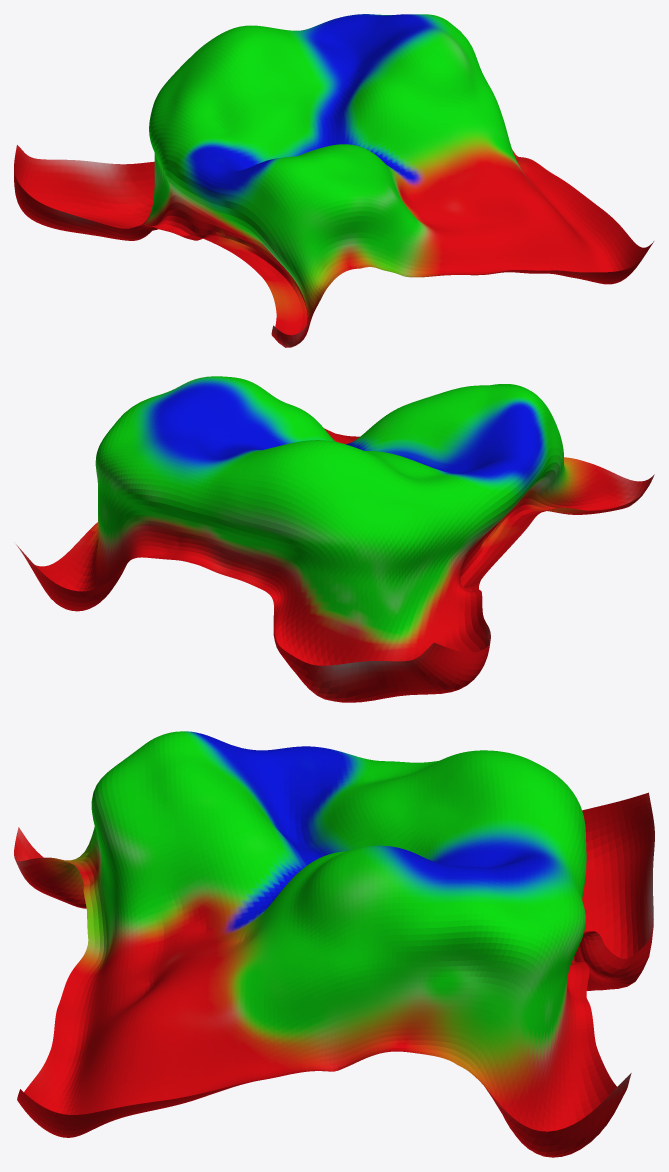
File: DFGHJKL.fbx
3 renders of one model, top to bottom at view 1: azimuth 30°, elevation 25°; view 2: azimuth 150°, elevation 25°; view 3: azimuth 270°, elevation 25°, orthographic. The views are drawn at different scales.
Visible parts, largest first — view 1: Plane; view 2: Plane; view 3: Plane.
Boxes of the visible parts, bbox=[...] form: Plane: bbox=[14, 14, 653, 347]; Plane: bbox=[14, 376, 654, 702]; Plane: bbox=[14, 731, 654, 1157].
Bounding box in the file's own units: 21933 × 9782 × 21092.
